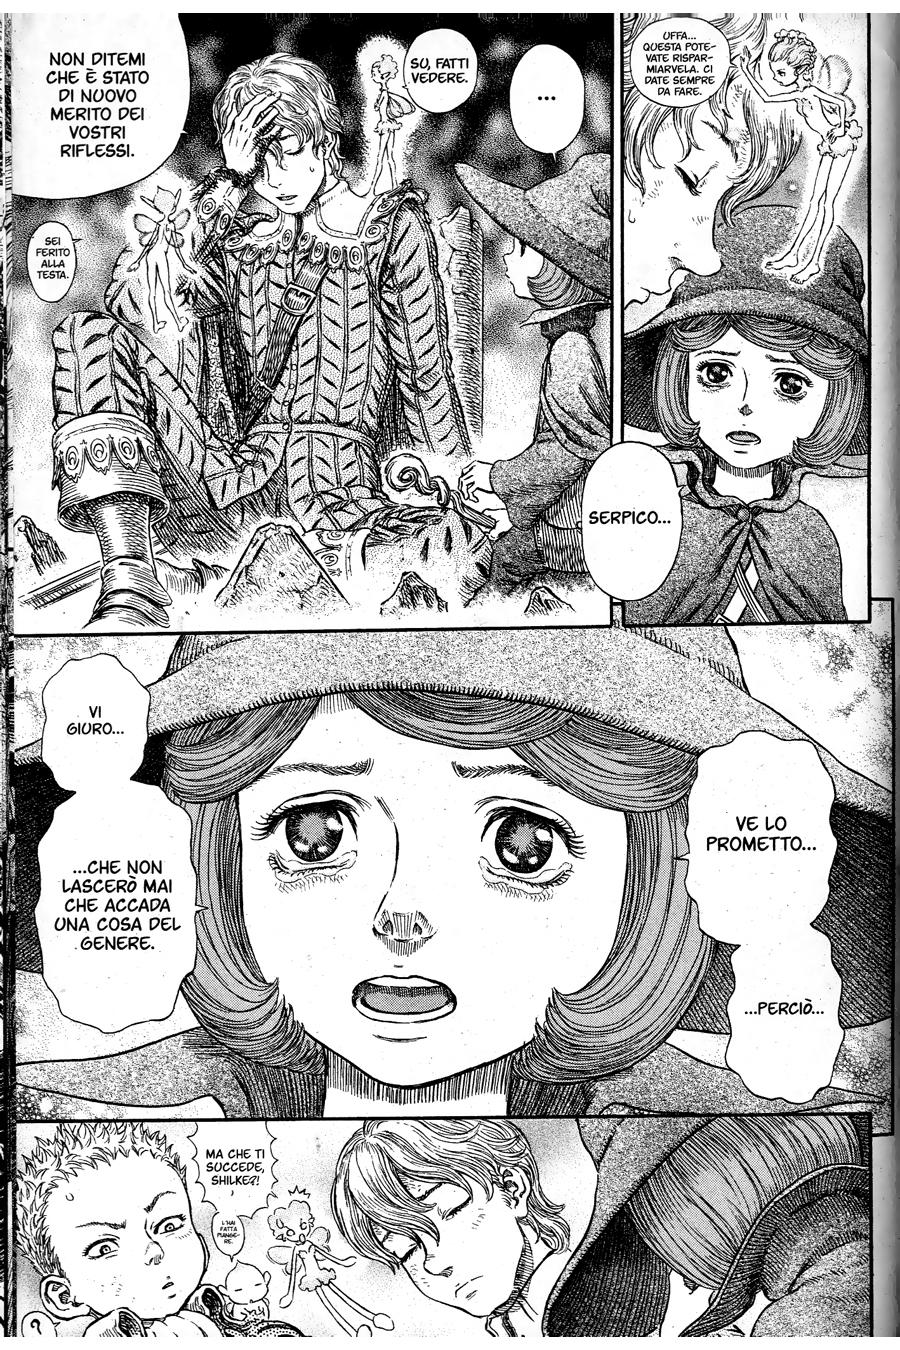Baloon: (38, 654, 200, 1040), (683, 732, 838, 1103), (8, 7, 189, 195), (559, 442, 679, 599), (626, 15, 740, 115), (502, 36, 589, 160), (193, 1128, 267, 1262), (400, 28, 481, 113), (22, 221, 69, 305)
Vignetta: (4, 623, 899, 1115), (4, 13, 616, 630), (1, 1109, 869, 1336), (624, 13, 871, 623)
